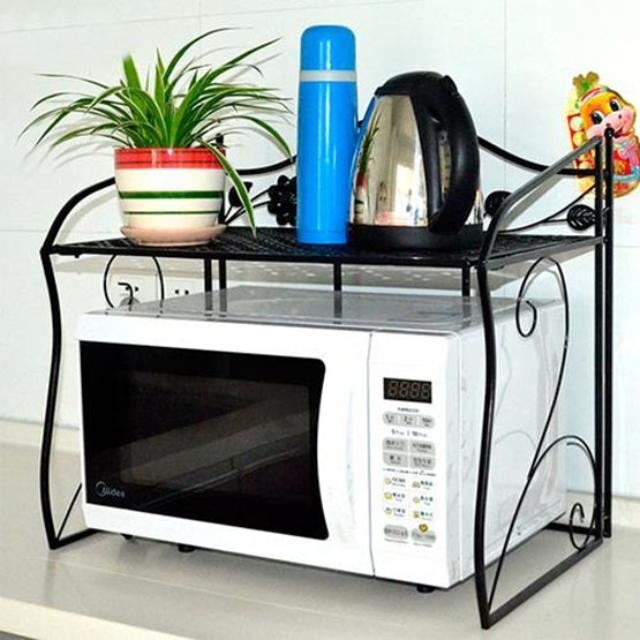Microwave: (70, 280, 570, 598)
